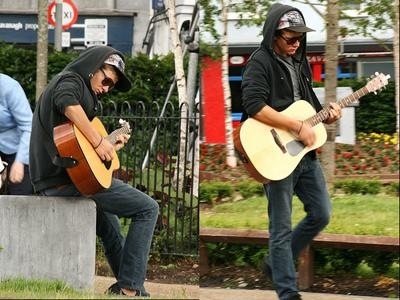person: (241, 4, 345, 300)
